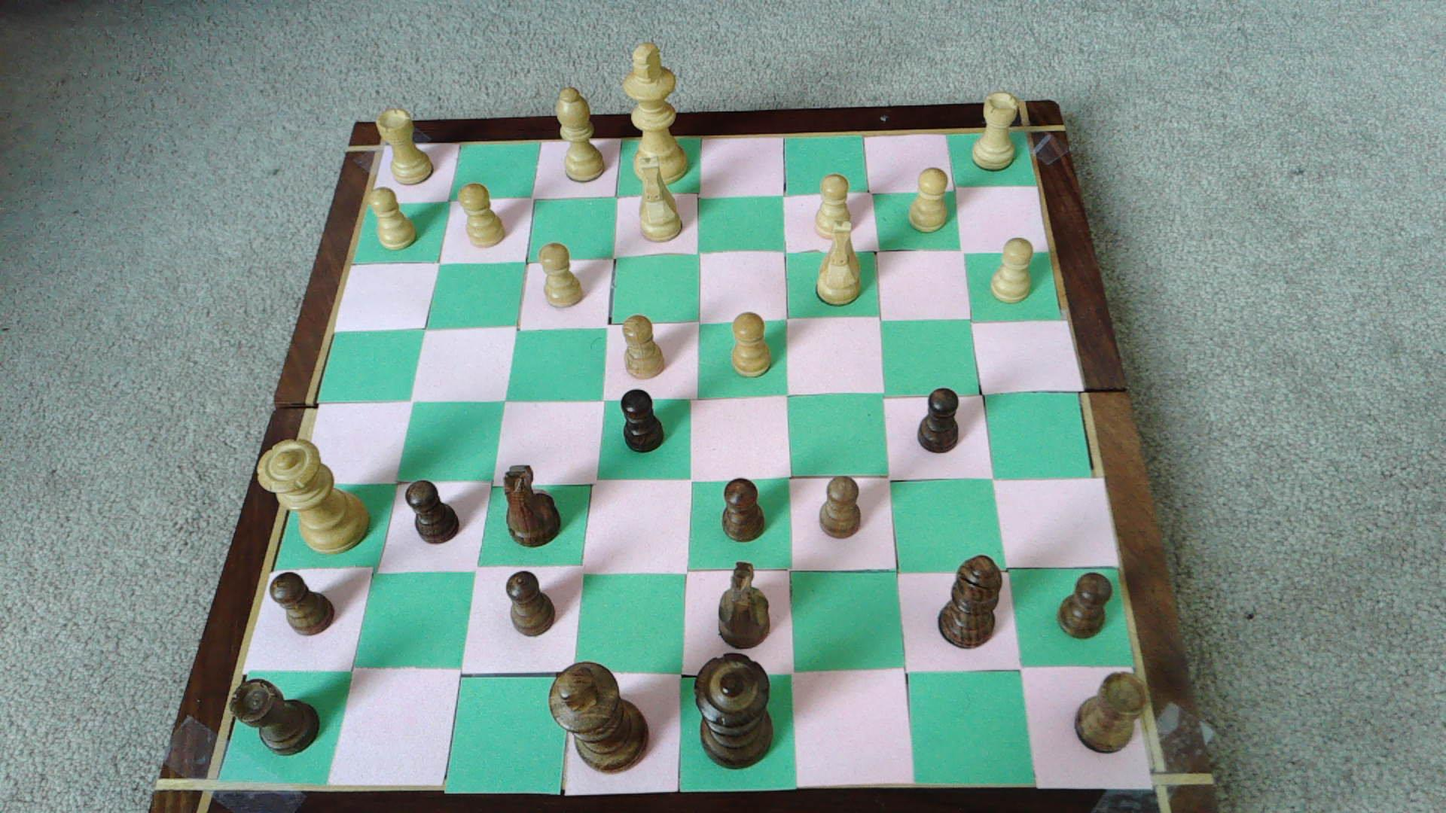dark_piece: (551, 662, 648, 770), (695, 655, 772, 767), (231, 680, 319, 754), (939, 555, 1002, 647), (1076, 673, 1147, 752), (503, 465, 560, 547), (718, 562, 770, 648), (270, 572, 334, 634), (1058, 573, 1110, 638), (406, 481, 459, 542), (506, 571, 555, 635), (917, 387, 959, 452), (722, 478, 766, 540), (621, 389, 664, 452), (819, 477, 861, 537)
white_piece: (258, 440, 368, 551), (621, 41, 689, 183), (554, 87, 605, 181), (377, 108, 435, 185), (634, 153, 683, 242), (972, 91, 1018, 171), (816, 228, 861, 305), (459, 183, 507, 247), (370, 187, 417, 250), (540, 242, 585, 307), (990, 237, 1034, 303), (623, 315, 665, 379), (908, 167, 948, 232), (731, 312, 771, 377), (814, 174, 853, 239)
